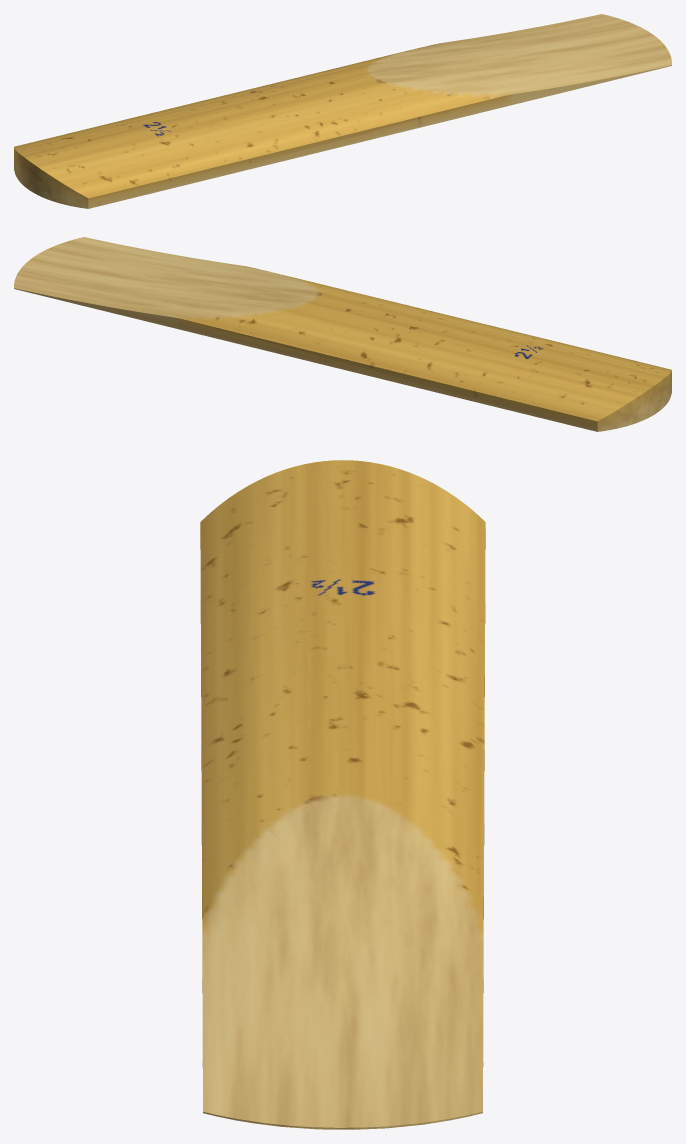
Rendered from Reed.glb.
3 views of the same model, one above another, from view 1: azimuth 30°, elevation 25°; view 2: azimuth 150°, elevation 25°; view 3: azimuth 270°, elevation 25° (orthographic). The views are drawn at different scales.
Parts seen in each view (by area): view 1: SM_ClarinetReed; view 2: SM_ClarinetReed; view 3: SM_ClarinetReed.
Boxes of the visible parts, bbox=[...] form: SM_ClarinetReed: bbox=[14, 14, 671, 208]; SM_ClarinetReed: bbox=[14, 237, 671, 431]; SM_ClarinetReed: bbox=[200, 460, 485, 1129].
Bounding box in the file's own units: 0.0675 × 0.003 × 0.0133.
Materials: 1 (1 with a texture image).
